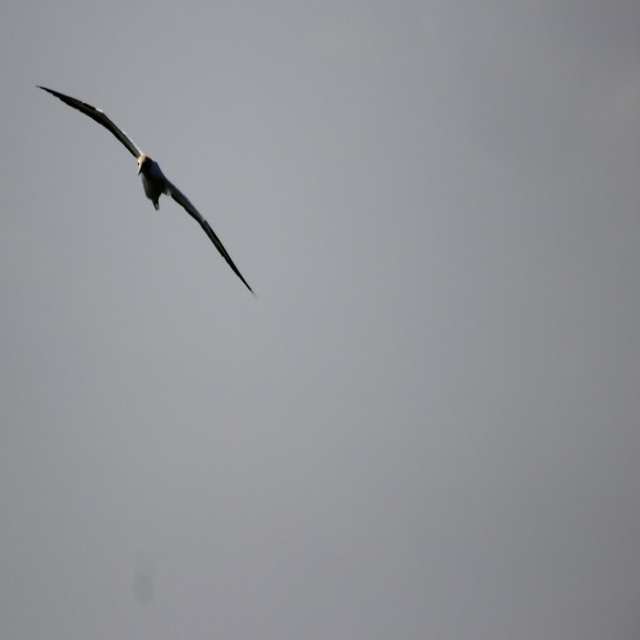Eagle: (38, 80, 255, 302)
